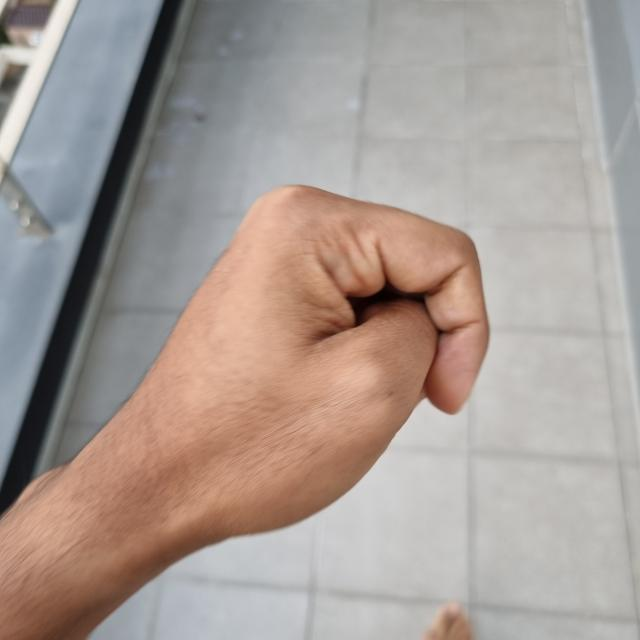Rock: (91, 186, 490, 542)
